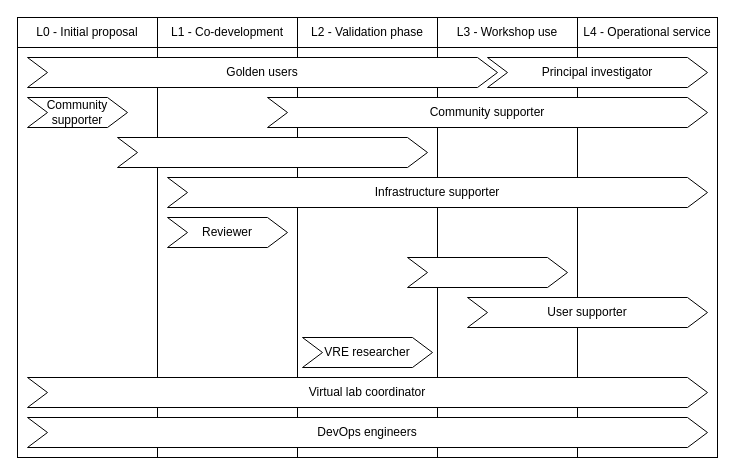
Some shapes in this 735 by 475 pixel diagram are drawn without their labels. The shapes that lost their labels are listed below. From the top down, each one's centre as x and y in pixels, then its label:
[272,152]: Core developers
[487,272]: Trainer
